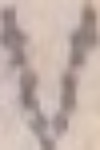V: (0, 0, 99, 149)
